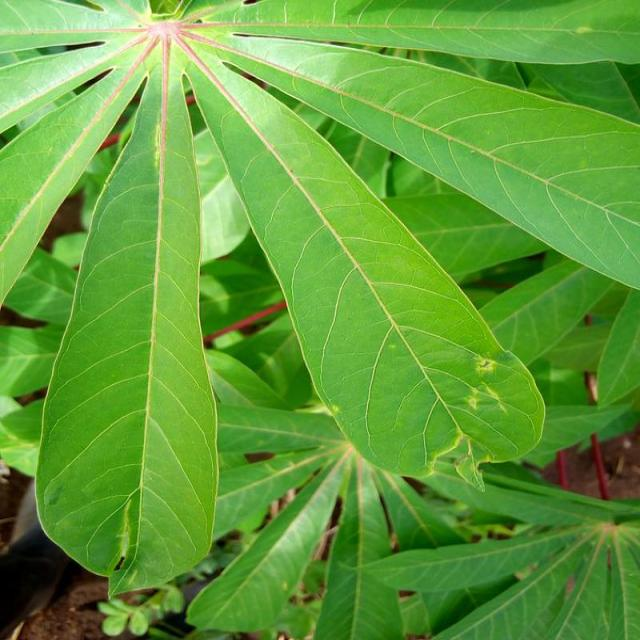cassava leaf: (1, 1, 638, 601), (184, 38, 546, 493), (33, 44, 220, 598)
